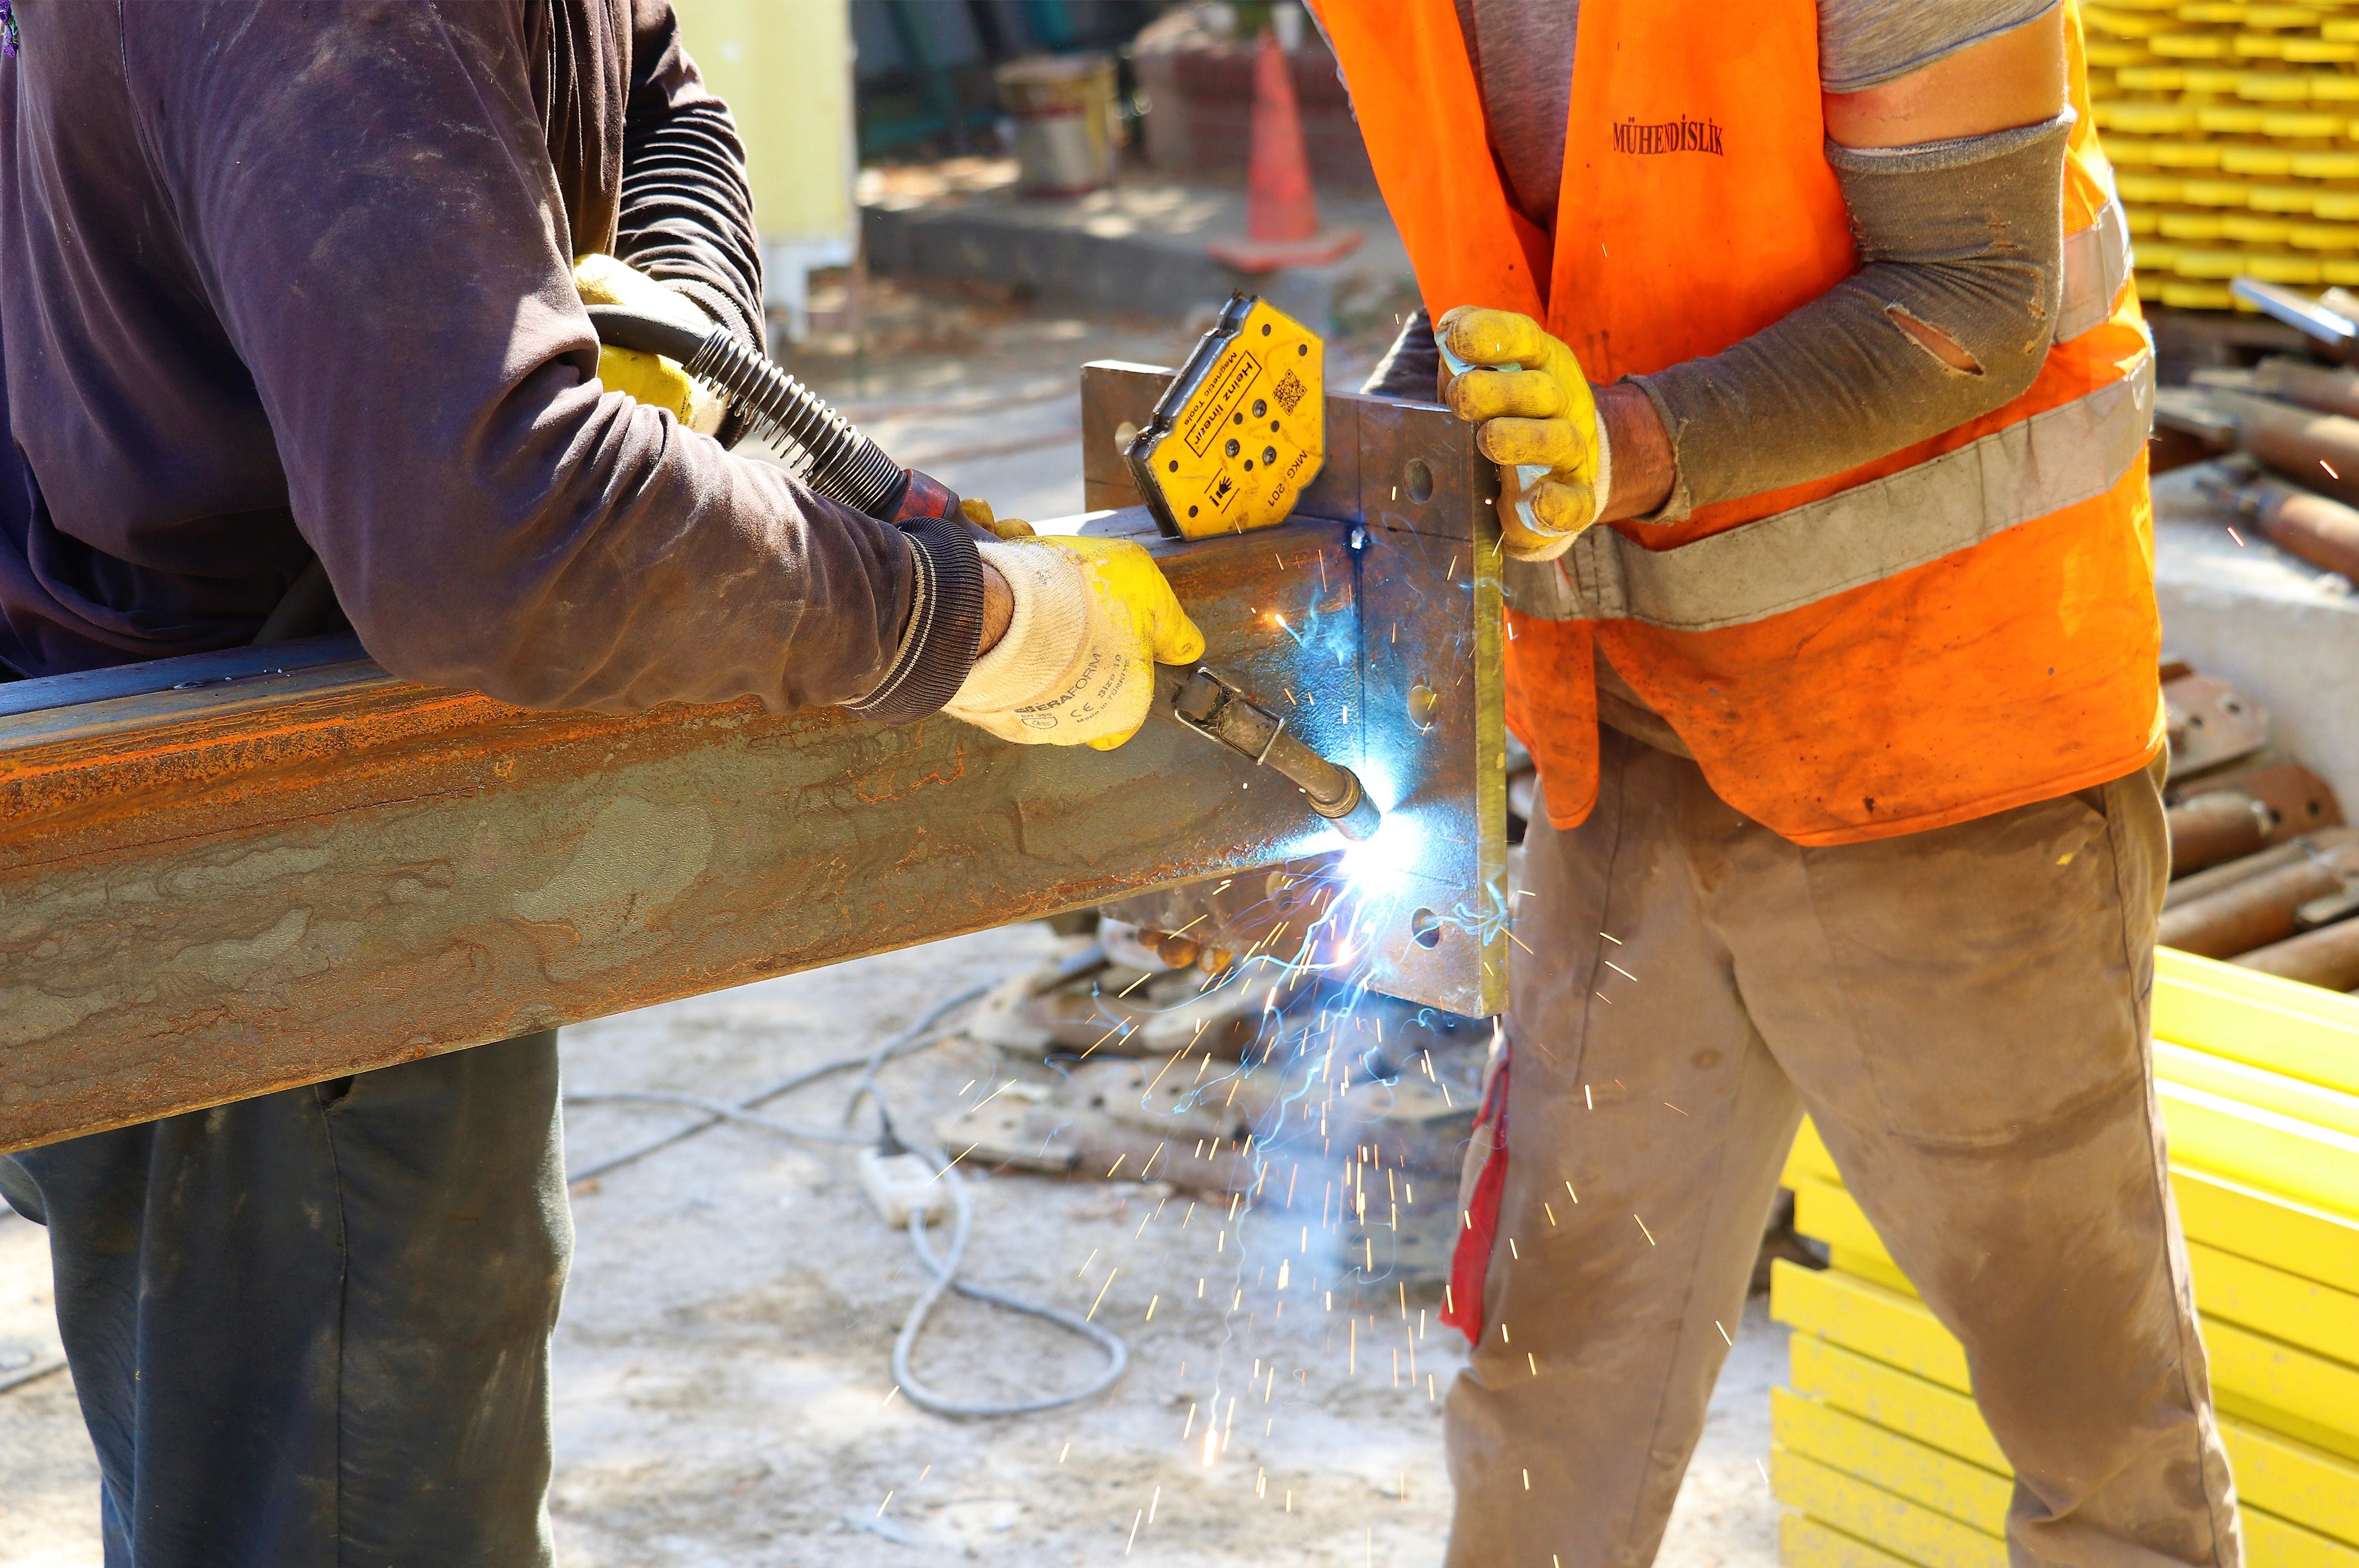Gloves: (949, 495, 1199, 775), (1418, 276, 1617, 579)
Safety Vest: (1288, 2, 2198, 829)
